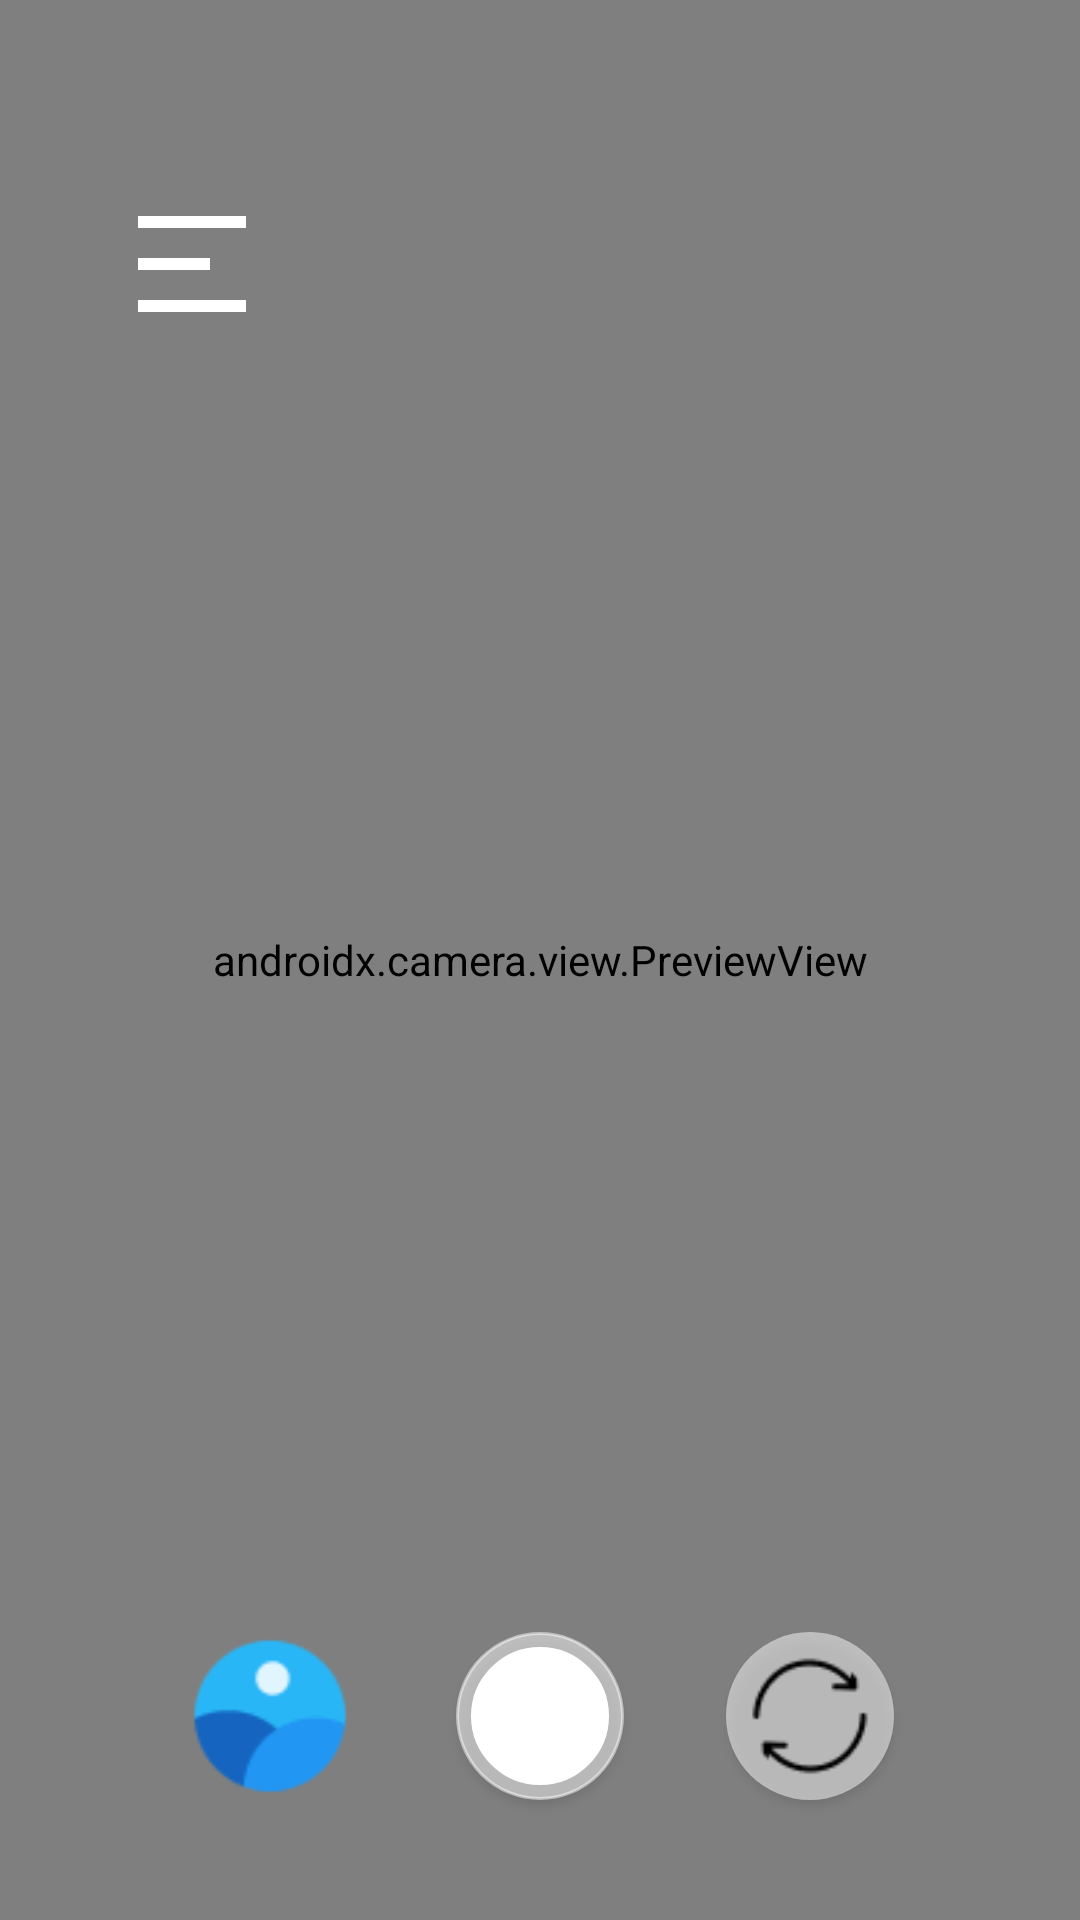

Where icons sit on this 1080px×1920px app screen, as (x1, y1, x2, y2):
bars: (138, 216, 246, 312)
